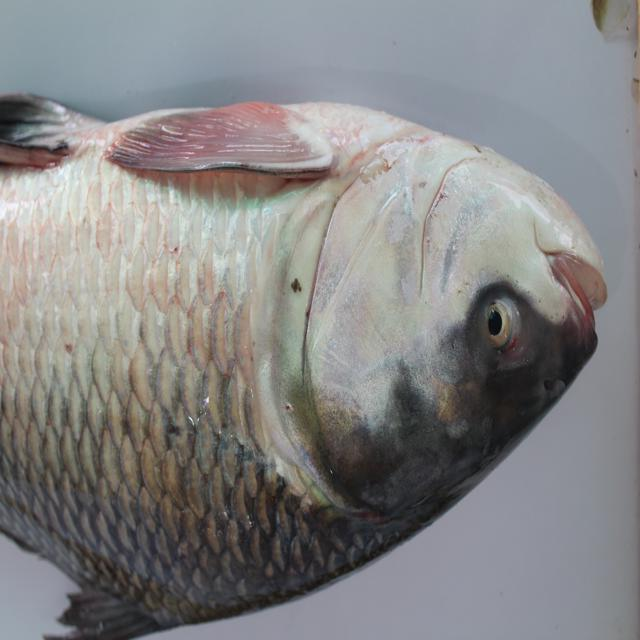Catla: (2, 89, 612, 640)
